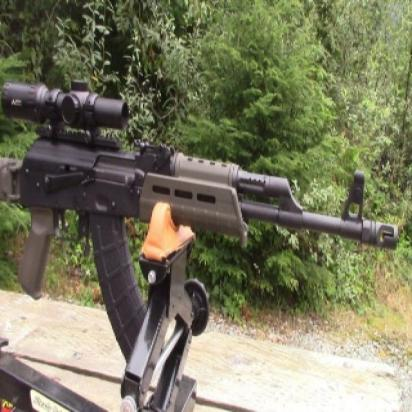Gun: (0, 75, 407, 383)
